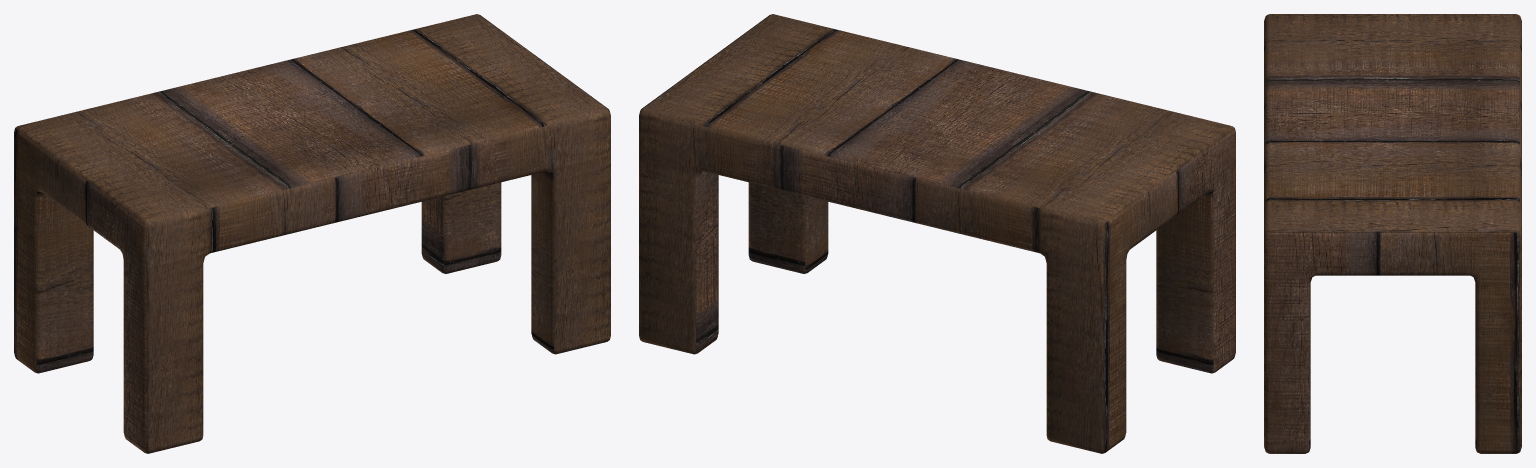
File: stolche_za_stan.fbx
3 renders of one model, left to right at view 1: azimuth 30°, elevation 25°; view 2: azimuth 150°, elevation 25°; view 3: azimuth 270°, elevation 25°, orthographic. The views are drawn at different scales.
Visible parts, largest first — view 1: Cube.018; view 2: Cube.018; view 3: Cube.018.
Part boxes in pixels (x1,y1,x2,y2): Cube.018: [14, 14, 610, 453]; Cube.018: [639, 14, 1235, 453]; Cube.018: [1264, 14, 1521, 453].
Bounding box in the file's own units: 96.84 × 46.4 × 48.11.
